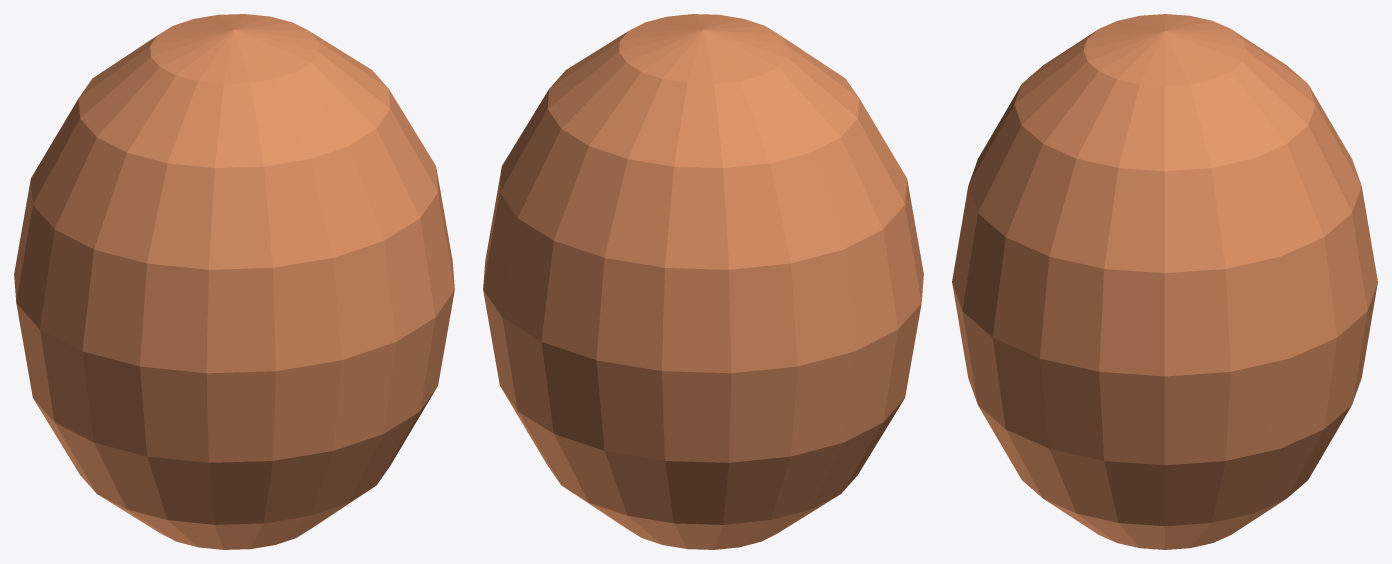
Rendered from Hand_L.obj.
3 views of the same model, side by side, from view 1: azimuth 30°, elevation 25°; view 2: azimuth 150°, elevation 25°; view 3: azimuth 270°, elevation 25° (orthographic).
Parts seen in each view (by area): view 1: Hand_L; view 2: Hand_L; view 3: Hand_L.
Part boxes in pixels (left/top/right/bottom): Hand_L: left=14, top=14, right=454, bottom=549; Hand_L: left=483, top=14, right=923, bottom=549; Hand_L: left=952, top=14, right=1377, bottom=549.
Size of the model in its own units: 0.21 by 0.26 by 0.2.
